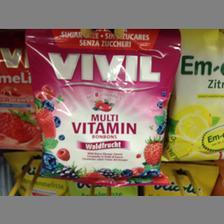Suessigkeit: (24, 29, 170, 185), (167, 27, 223, 164)
